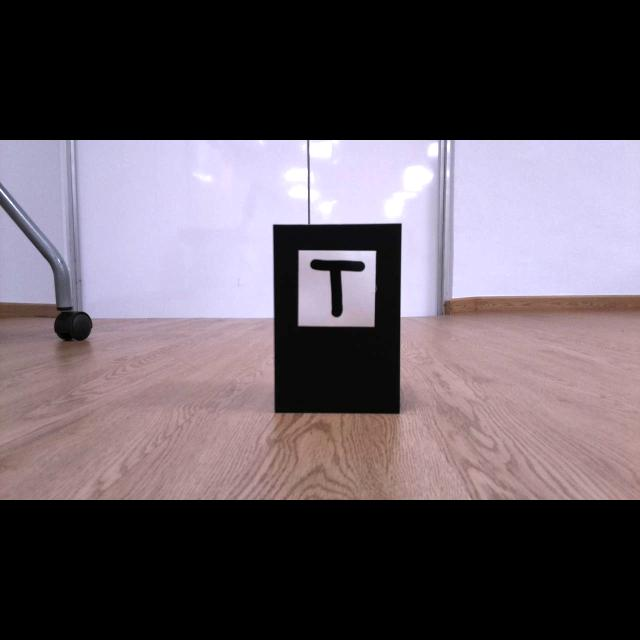T: (310, 259, 366, 317)
